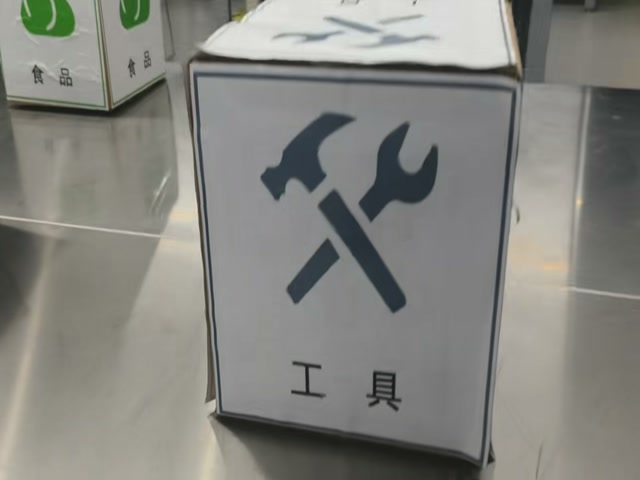Cube_tool: (190, 0, 519, 83)
